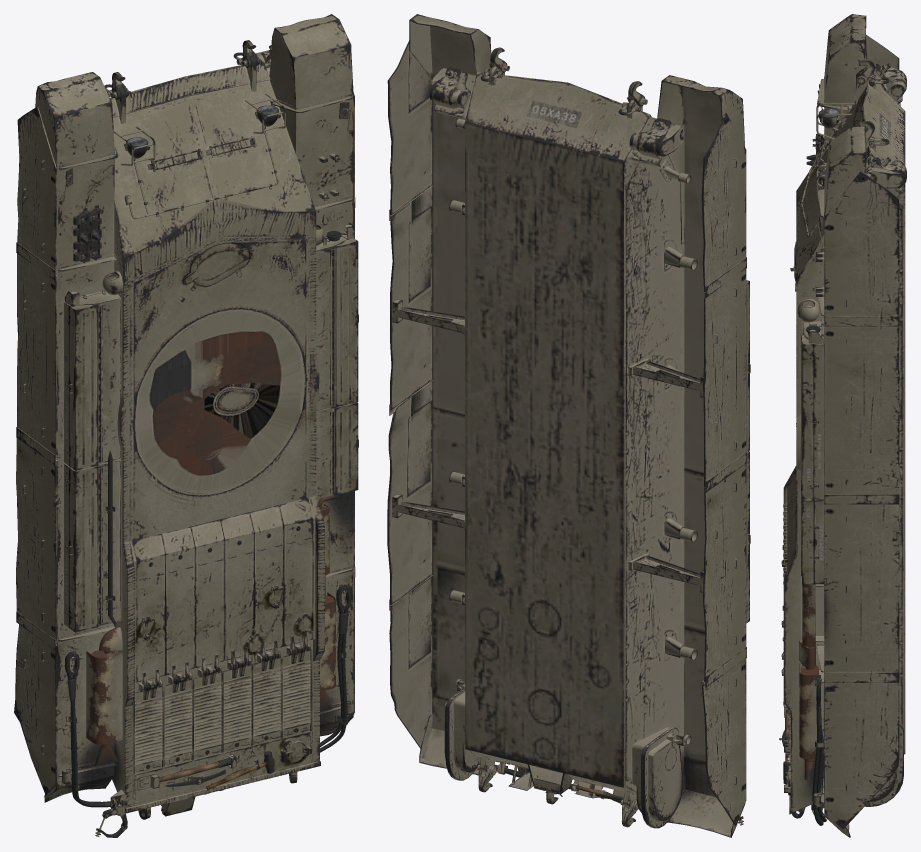
The model's file is Hull.glb.
3 renders of one model, left to right at view 1: azimuth 30°, elevation 25°; view 2: azimuth 150°, elevation 25°; view 3: azimuth 270°, elevation 25°, orthographic. The views are drawn at different scales.
Visible parts, largest first — view 1: set_0_group_0; view 2: set_0_group_0; view 3: set_0_group_0.
Part boxes in pixels (x1=…): set_0_group_0: x1=14, y1=14, x2=358, y2=837; set_0_group_0: x1=387, y1=14, x2=750, y2=837; set_0_group_0: x1=779, y1=14, x2=906, y2=837.
Size of the model in its own units: 3.09 by 7.07 by 1.16.
Materials: 1 (1 with a texture image).
